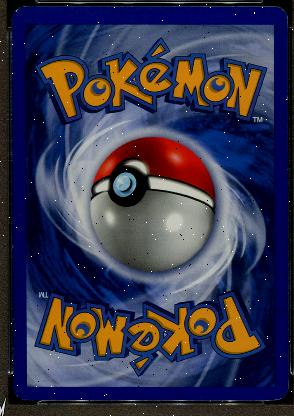Card: (10, 4, 288, 402)
Corner Wear: (12, 384, 36, 402), (269, 6, 287, 26), (10, 5, 29, 22), (271, 380, 287, 400)
Edge Wear: (21, 396, 279, 400), (33, 4, 275, 8), (284, 80, 288, 190), (11, 228, 15, 332)
